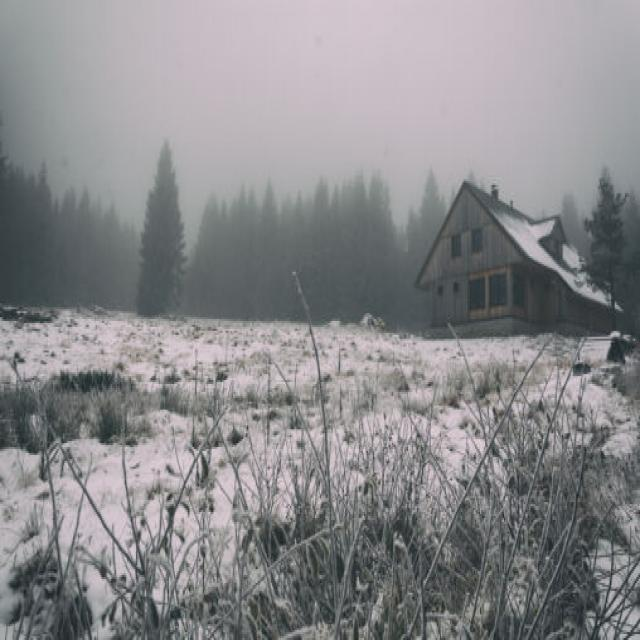tree: (139, 124, 185, 349), (594, 158, 632, 339)
